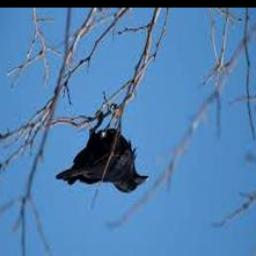Crow: (57, 111, 151, 194)
